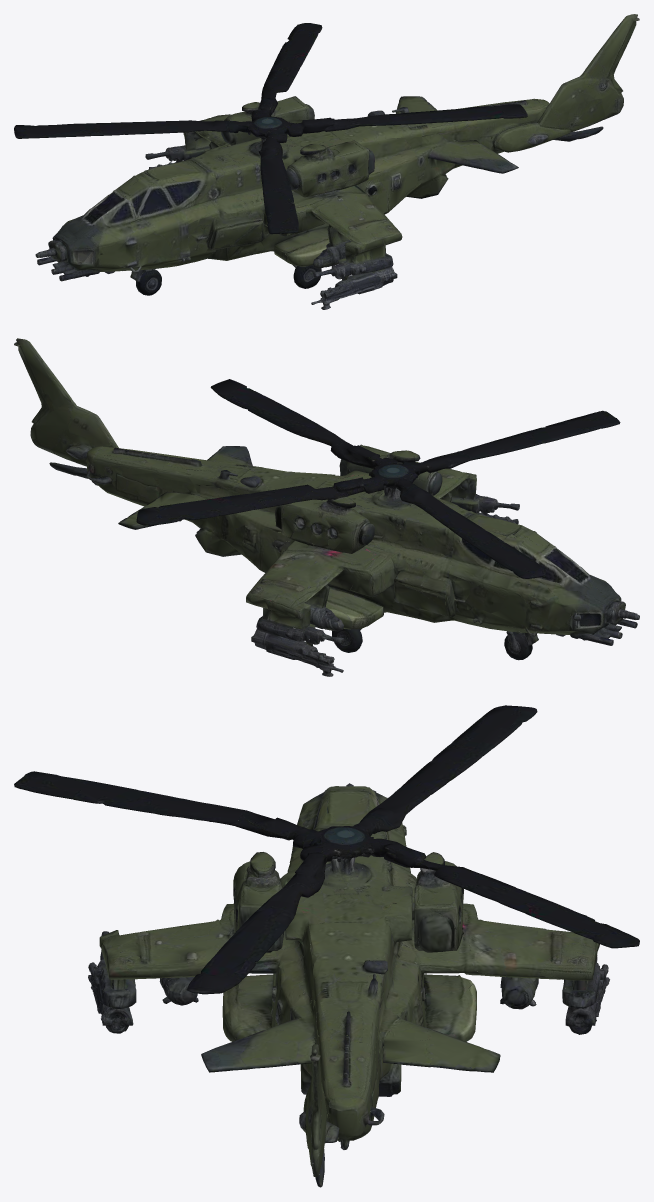
The model's file is hornet.glb.
3 views of the same model, one above another, from view 1: azimuth 30°, elevation 25°; view 2: azimuth 150°, elevation 25°; view 3: azimuth 270°, elevation 25° (orthographic). The views are drawn at different scales.
Visible parts, largest first — view 1: Mesh_0; view 2: Mesh_0; view 3: Mesh_0.
Part boxes in pixels (x1,y1,x2,y2): Mesh_0: (14,14,639,309); Mesh_0: (14,338,639,676); Mesh_0: (14,705,639,1187).
Size of the model in its own units: 1.9 by 0.5339 by 1.19.
1 material, 1 textured.
